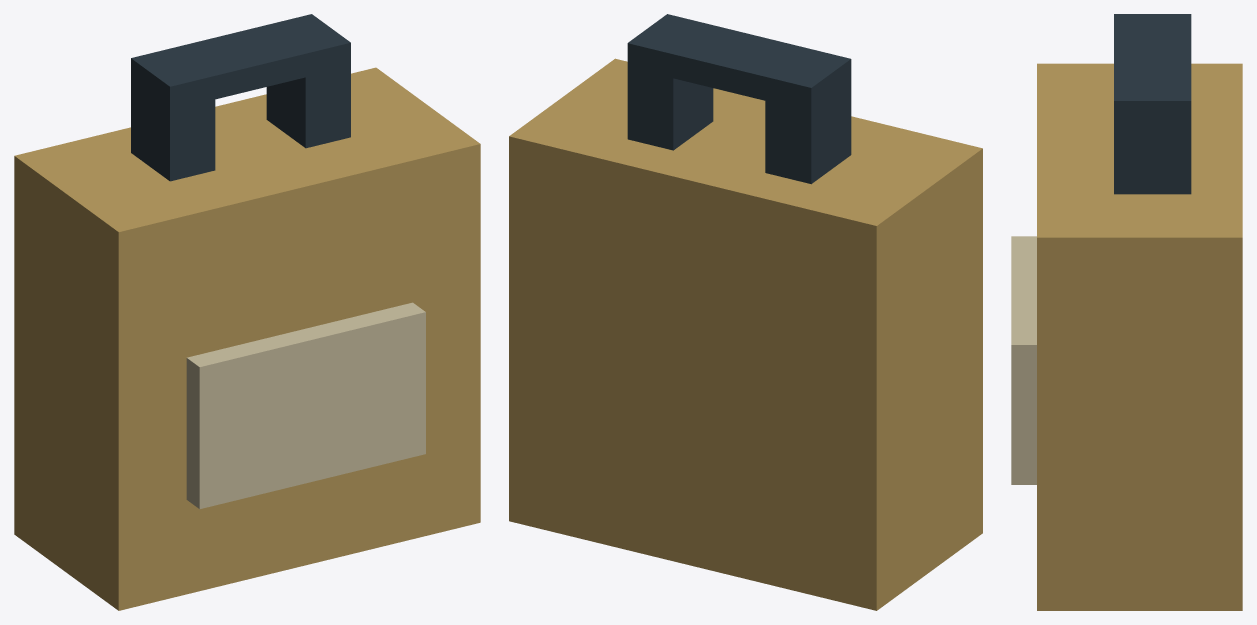
Rendered from education-13.glb.
The picture shows the model from 3 angles, left to right: view 1: azimuth 30°, elevation 25°; view 2: azimuth 150°, elevation 25°; view 3: azimuth 270°, elevation 25°; orthographic projection. The views are drawn at different scales.
Parts seen in each view (by area): view 1: School backpack; view 2: School backpack; view 3: School backpack.
Part boxes in pixels (bbox=[...]): School backpack: bbox=[14, 14, 480, 610]; School backpack: bbox=[509, 14, 982, 610]; School backpack: bbox=[1011, 14, 1242, 610].
Size of the model in its own units: 1.28 by 1.6 by 0.72.
